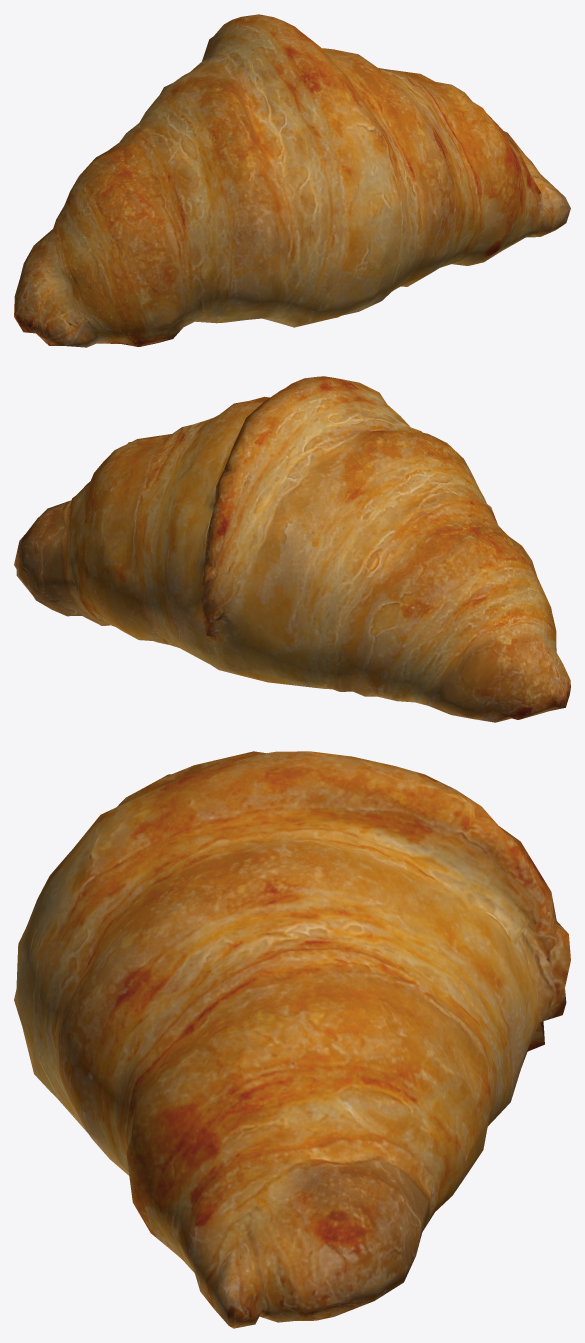
Rendered from SM_Croissant_02a.fbx.
3 views of the same model, one above another, from view 1: azimuth 30°, elevation 25°; view 2: azimuth 150°, elevation 25°; view 3: azimuth 270°, elevation 25° (orthographic). The views are drawn at different scales.
Visible parts, largest first — view 1: SM_Croissant_02a_LOD0; view 2: SM_Croissant_02a_LOD0; view 3: SM_Croissant_02a_LOD0.
Part boxes in pixels (<box>): SM_Croissant_02a_LOD0: <box>14,14,570,347</box>; SM_Croissant_02a_LOD0: <box>14,376,570,722</box>; SM_Croissant_02a_LOD0: <box>14,751,570,1328</box>.
Size of what is drawn, in the model's own units: 20.16 by 11.74 by 9.25.
